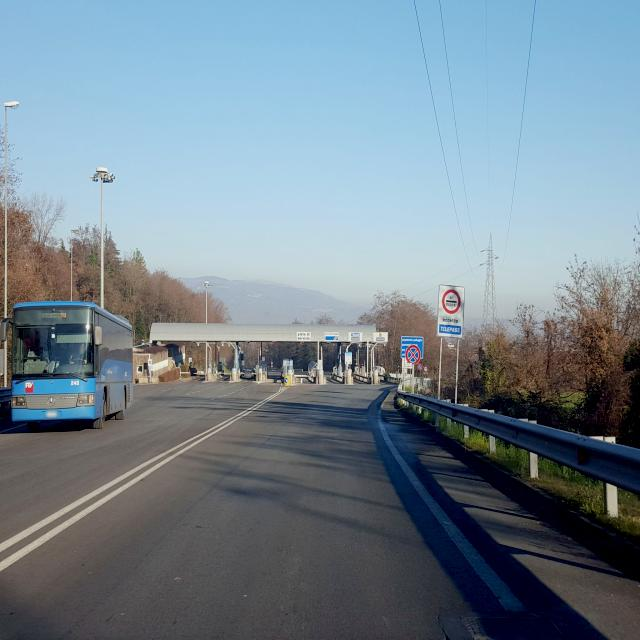car: (239, 366, 256, 380)
